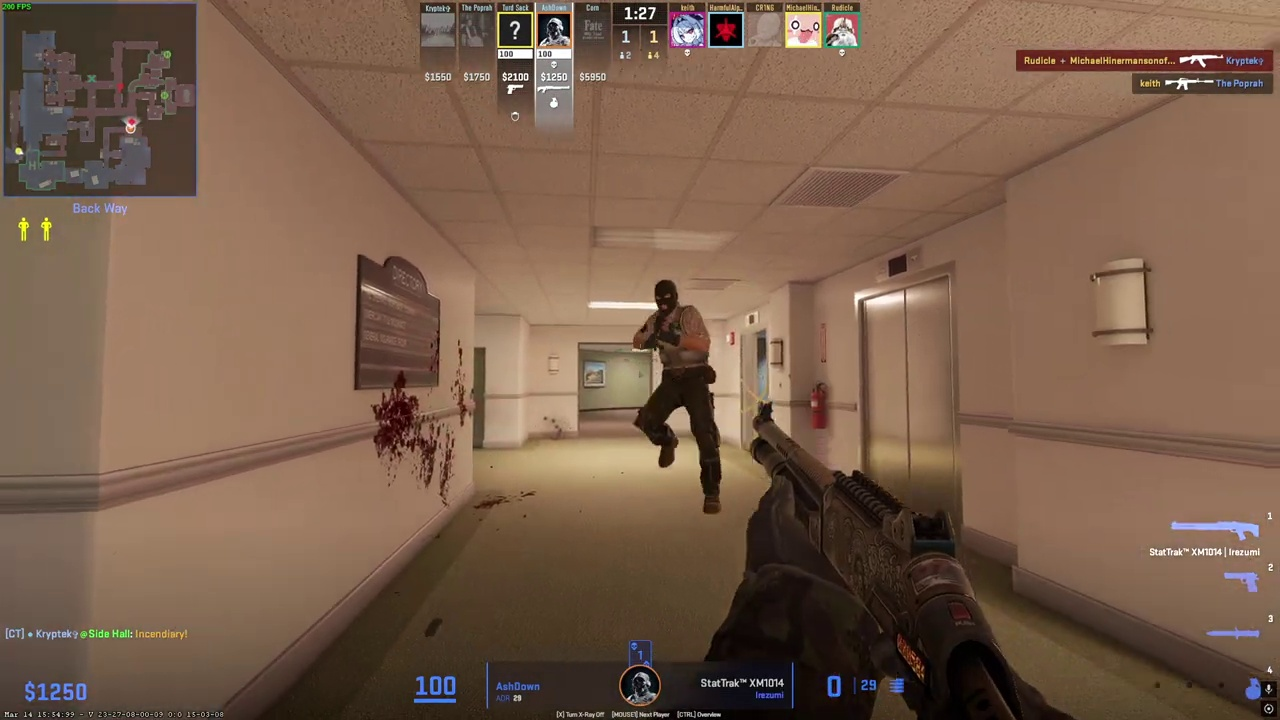Terrorist: (635, 279, 722, 514)
